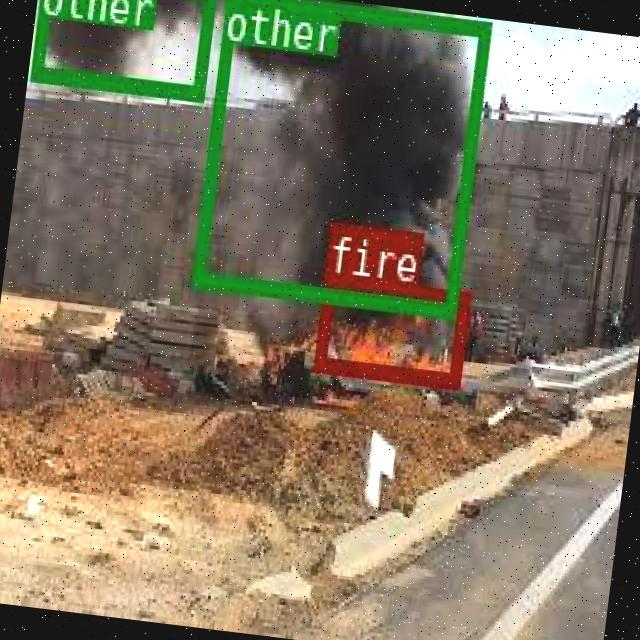fire: (312, 271, 468, 384)
